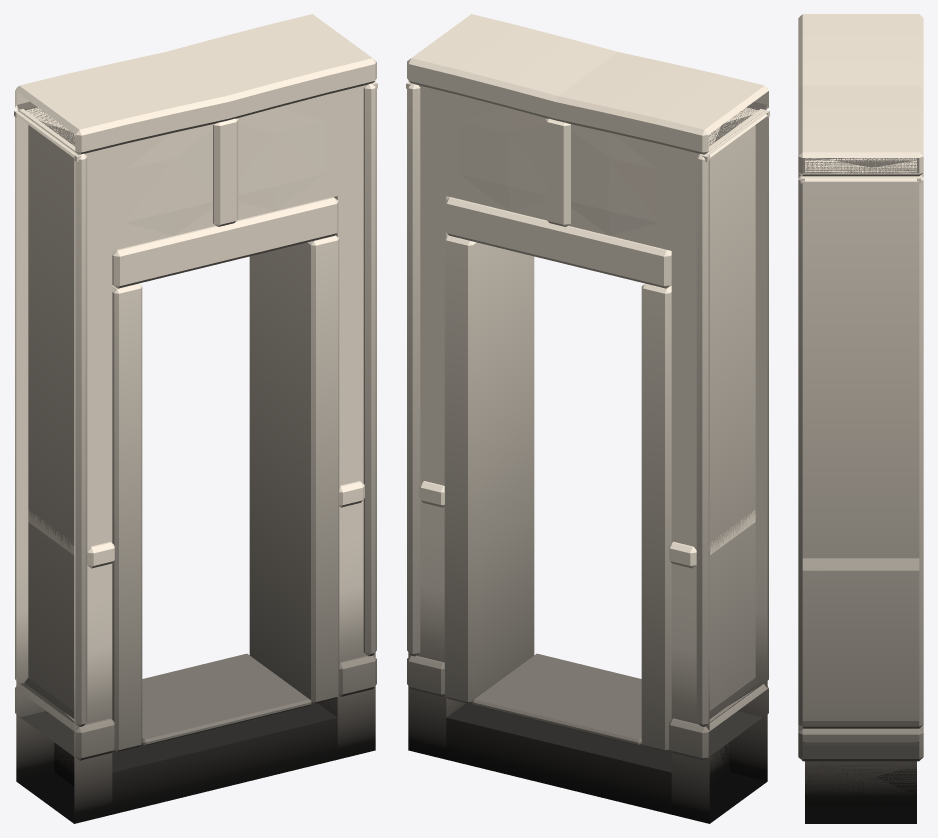
The model's file is SM_VKI_Wall_Timber_Door_150_Full.fbx.
3 renders of one model, left to right at view 1: azimuth 30°, elevation 25°; view 2: azimuth 150°, elevation 25°; view 3: azimuth 270°, elevation 25°, orthographic. The views are drawn at different scales.
Parts seen in each view (by area): view 1: SM_VKI_Wall_Timber_Door_150_Full.001; view 2: SM_VKI_Wall_Timber_Door_150_Full.001; view 3: SM_VKI_Wall_Timber_Door_150_Full.001.
Part boxes in pixels (x1,y1,x2,y2): SM_VKI_Wall_Timber_Door_150_Full.001: (14,14,377,823); SM_VKI_Wall_Timber_Door_150_Full.001: (406,14,769,823); SM_VKI_Wall_Timber_Door_150_Full.001: (798,14,923,823).
Bounding box in the file's own units: 1.5 × 3.3 × 0.56.
